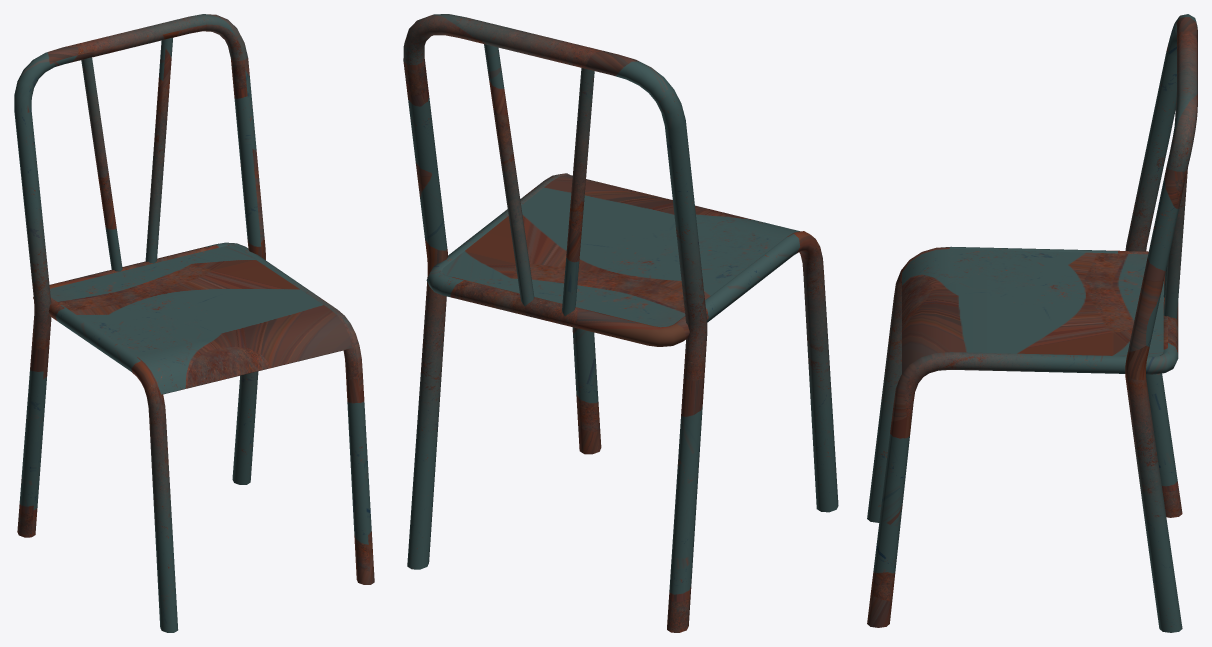
The model's file is chaise.fbx.
3 renders of one model, left to right at view 1: azimuth 30°, elevation 25°; view 2: azimuth 150°, elevation 25°; view 3: azimuth 270°, elevation 25°, orthographic. The views are drawn at different scales.
Parts seen in each view (by area): view 1: Chaise_asset; view 2: Chaise_asset; view 3: Chaise_asset.
Boxes of the visible parts, x1,y1,x2,y2 form: Chaise_asset: (14, 14, 374, 632); Chaise_asset: (403, 14, 838, 632); Chaise_asset: (867, 14, 1197, 632).
Size of the model in its own units: 59.59 by 115 by 67.3.
